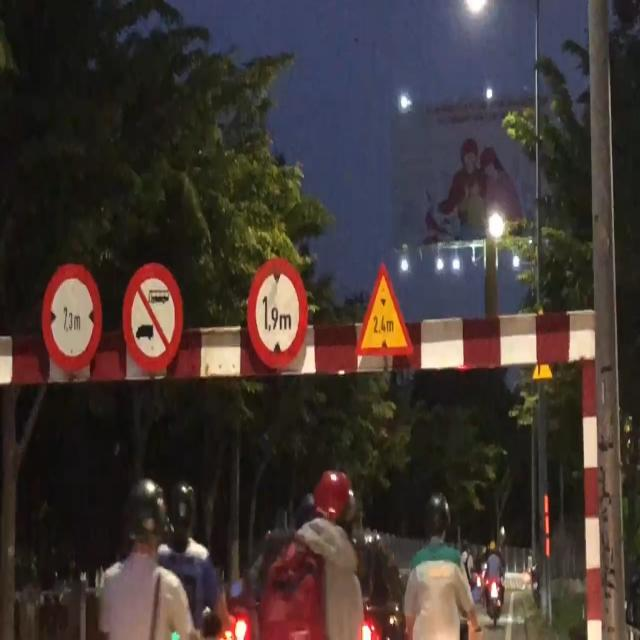Bien bao cam xe oto khach va xe oto tai: (119, 257, 186, 374)
Bien bao chieu cao tinh khong thuc te: (353, 257, 418, 361)
Bien bao han che chieu cao: (244, 254, 312, 373)
